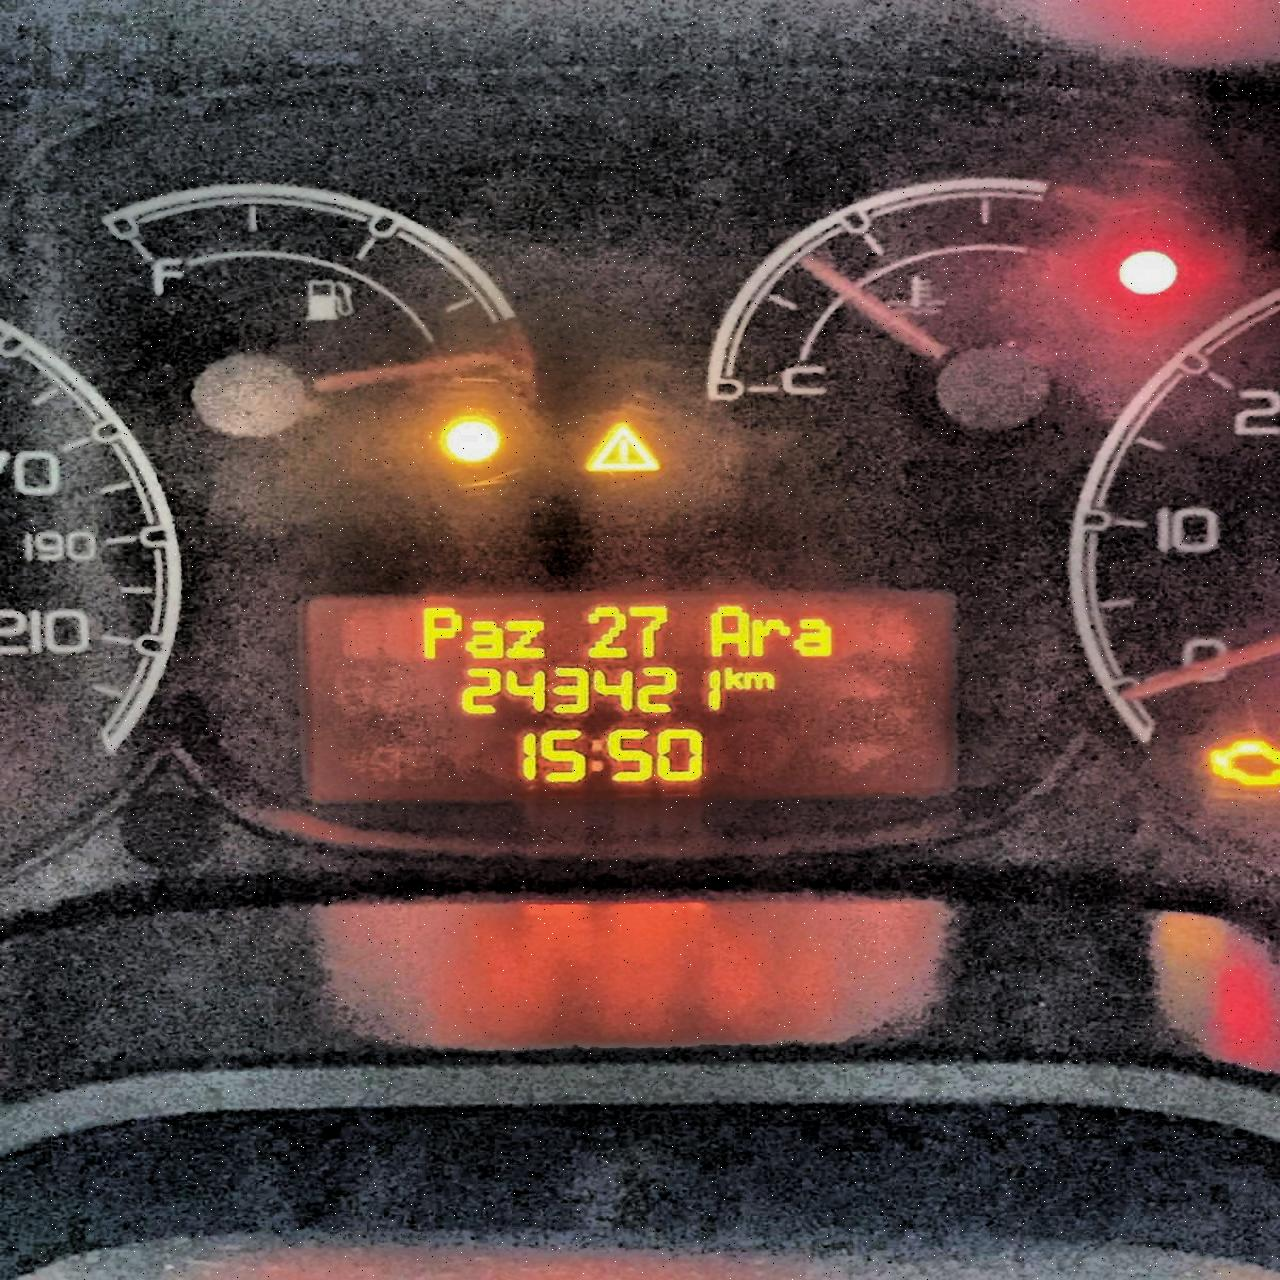0: (658, 724, 706, 783)
1: (516, 727, 537, 779), (701, 666, 723, 715)
2: (456, 667, 501, 719), (638, 661, 679, 713), (586, 604, 625, 656)
3: (549, 661, 591, 714)
4: (593, 665, 638, 712), (502, 666, 544, 713)
5: (538, 724, 588, 784), (606, 727, 655, 784)
7: (625, 604, 670, 658)
X: (704, 604, 748, 656), (418, 602, 461, 656), (792, 614, 835, 659), (503, 617, 546, 659), (462, 615, 502, 659), (749, 615, 789, 656), (586, 735, 607, 781), (743, 669, 776, 692), (722, 665, 744, 690)
odometer: (301, 593, 952, 795)
